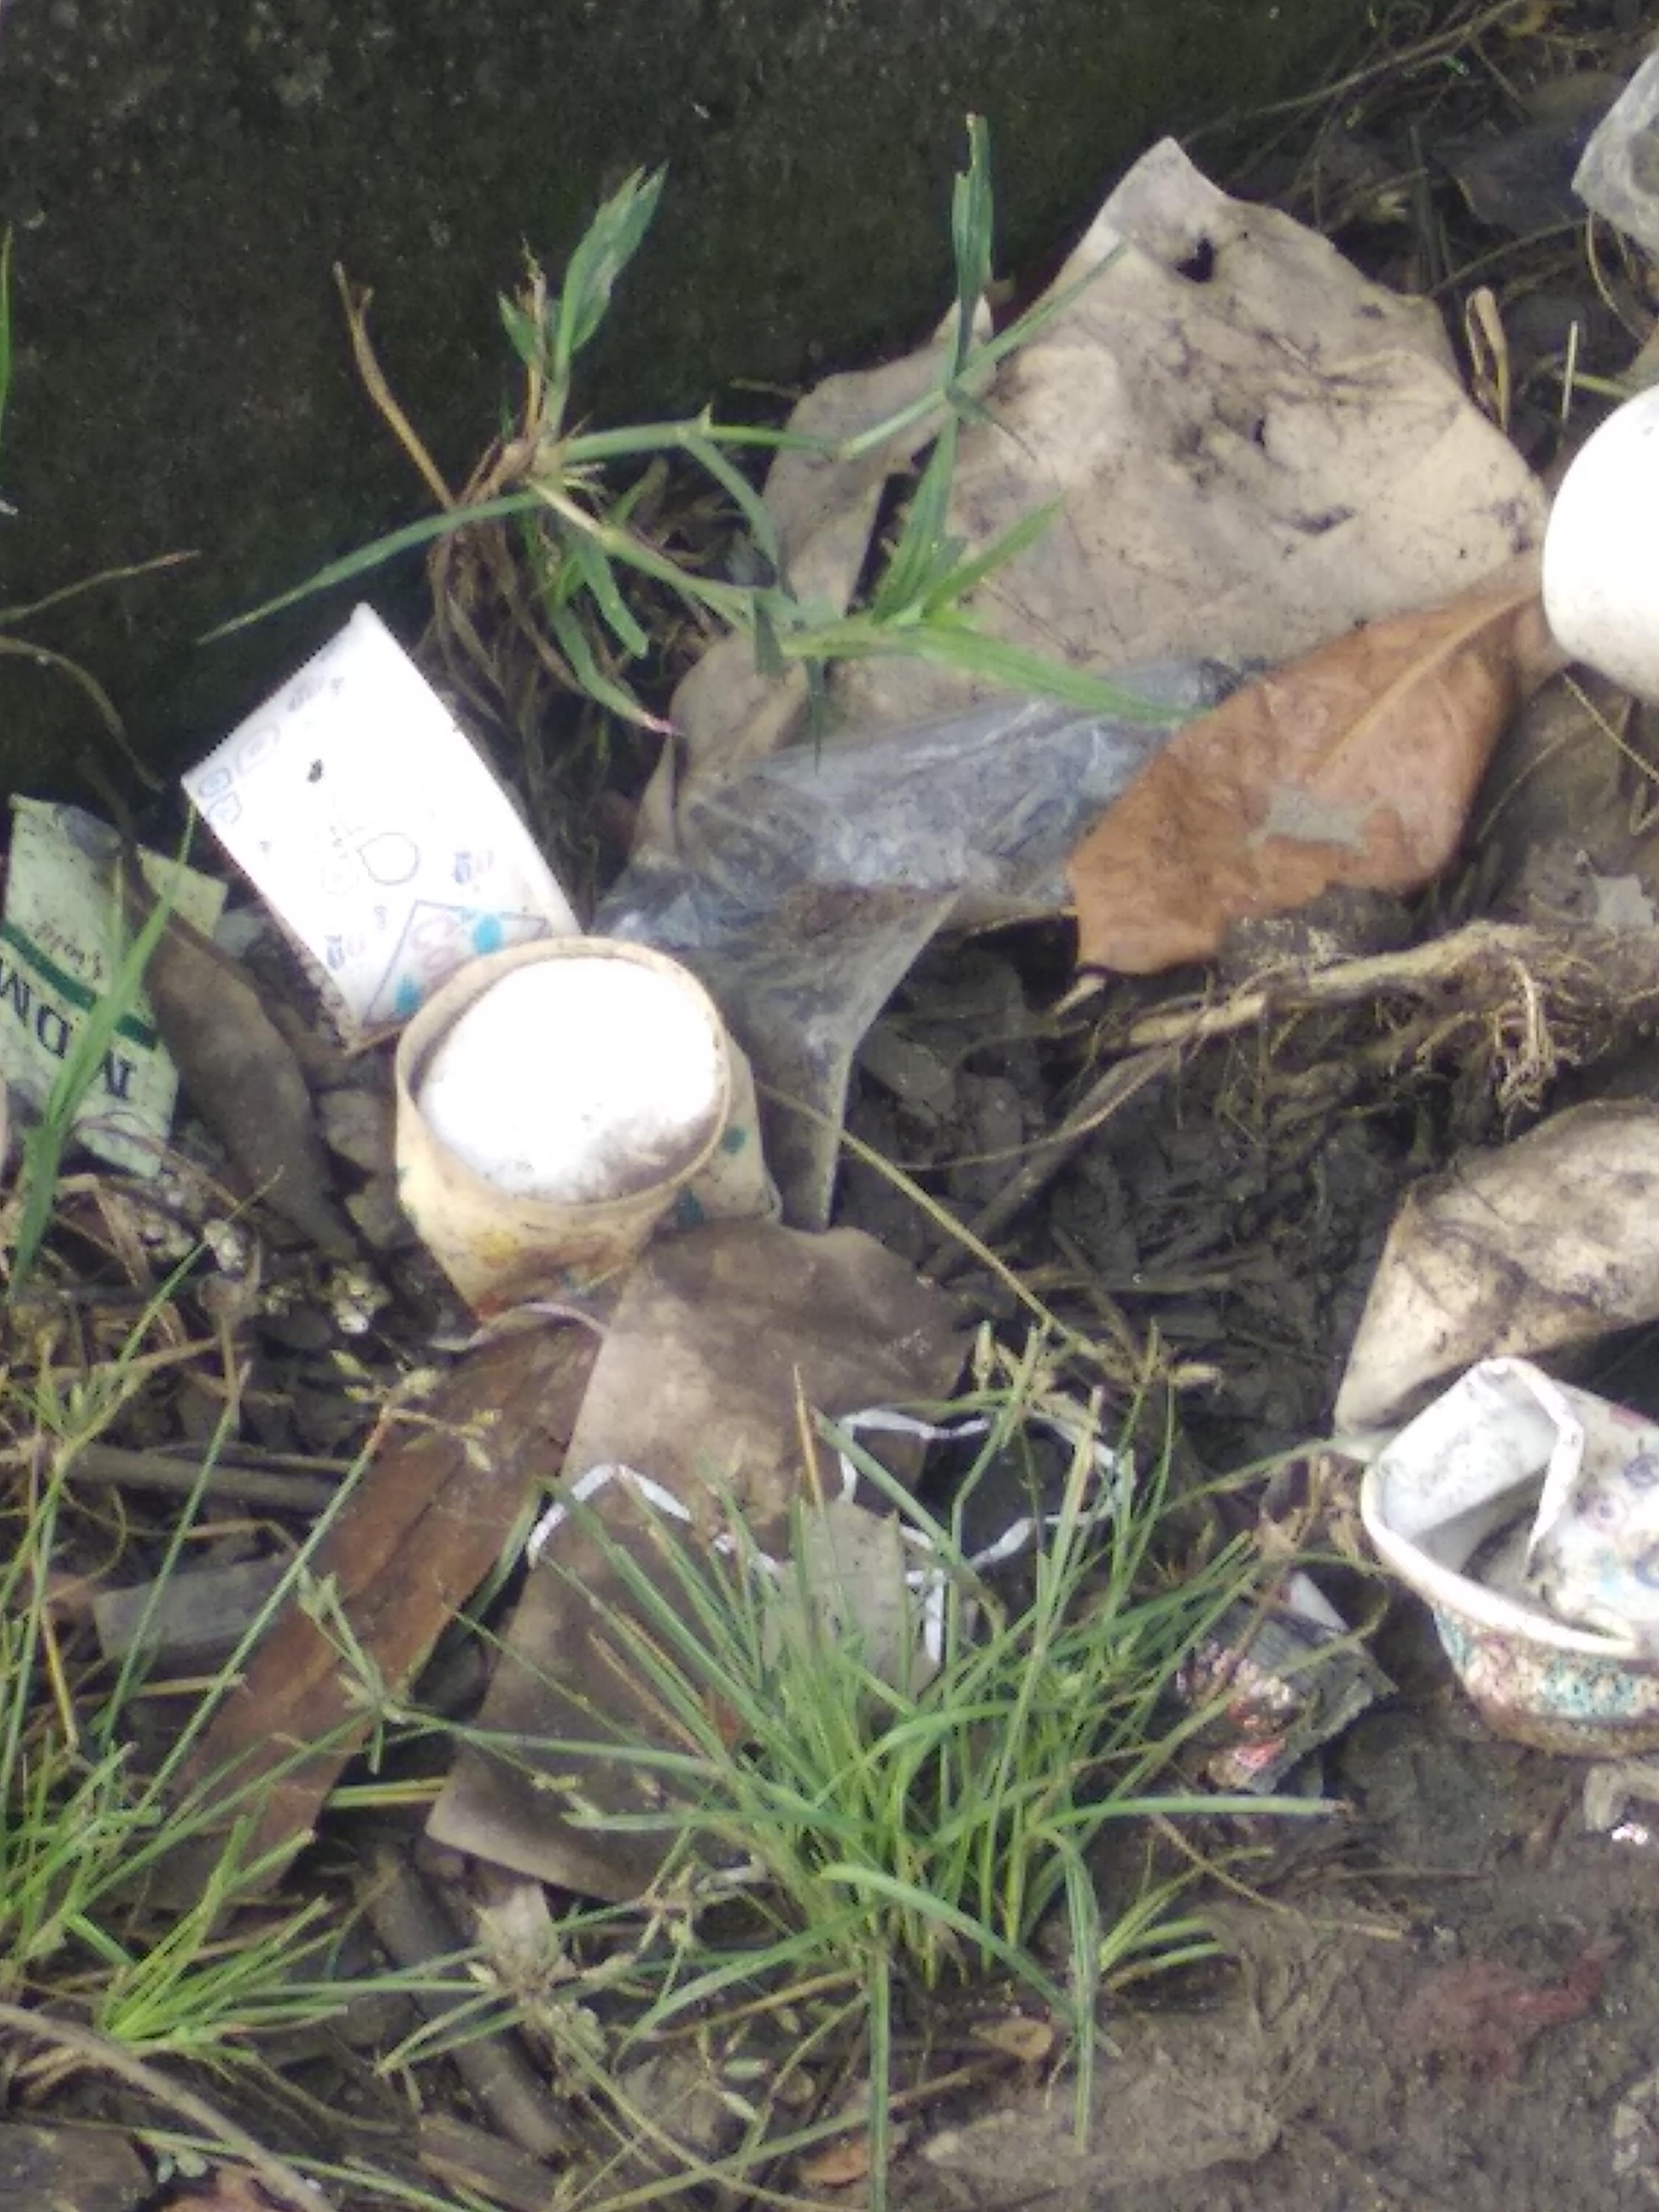organic: (0, 80, 1659, 1787)
